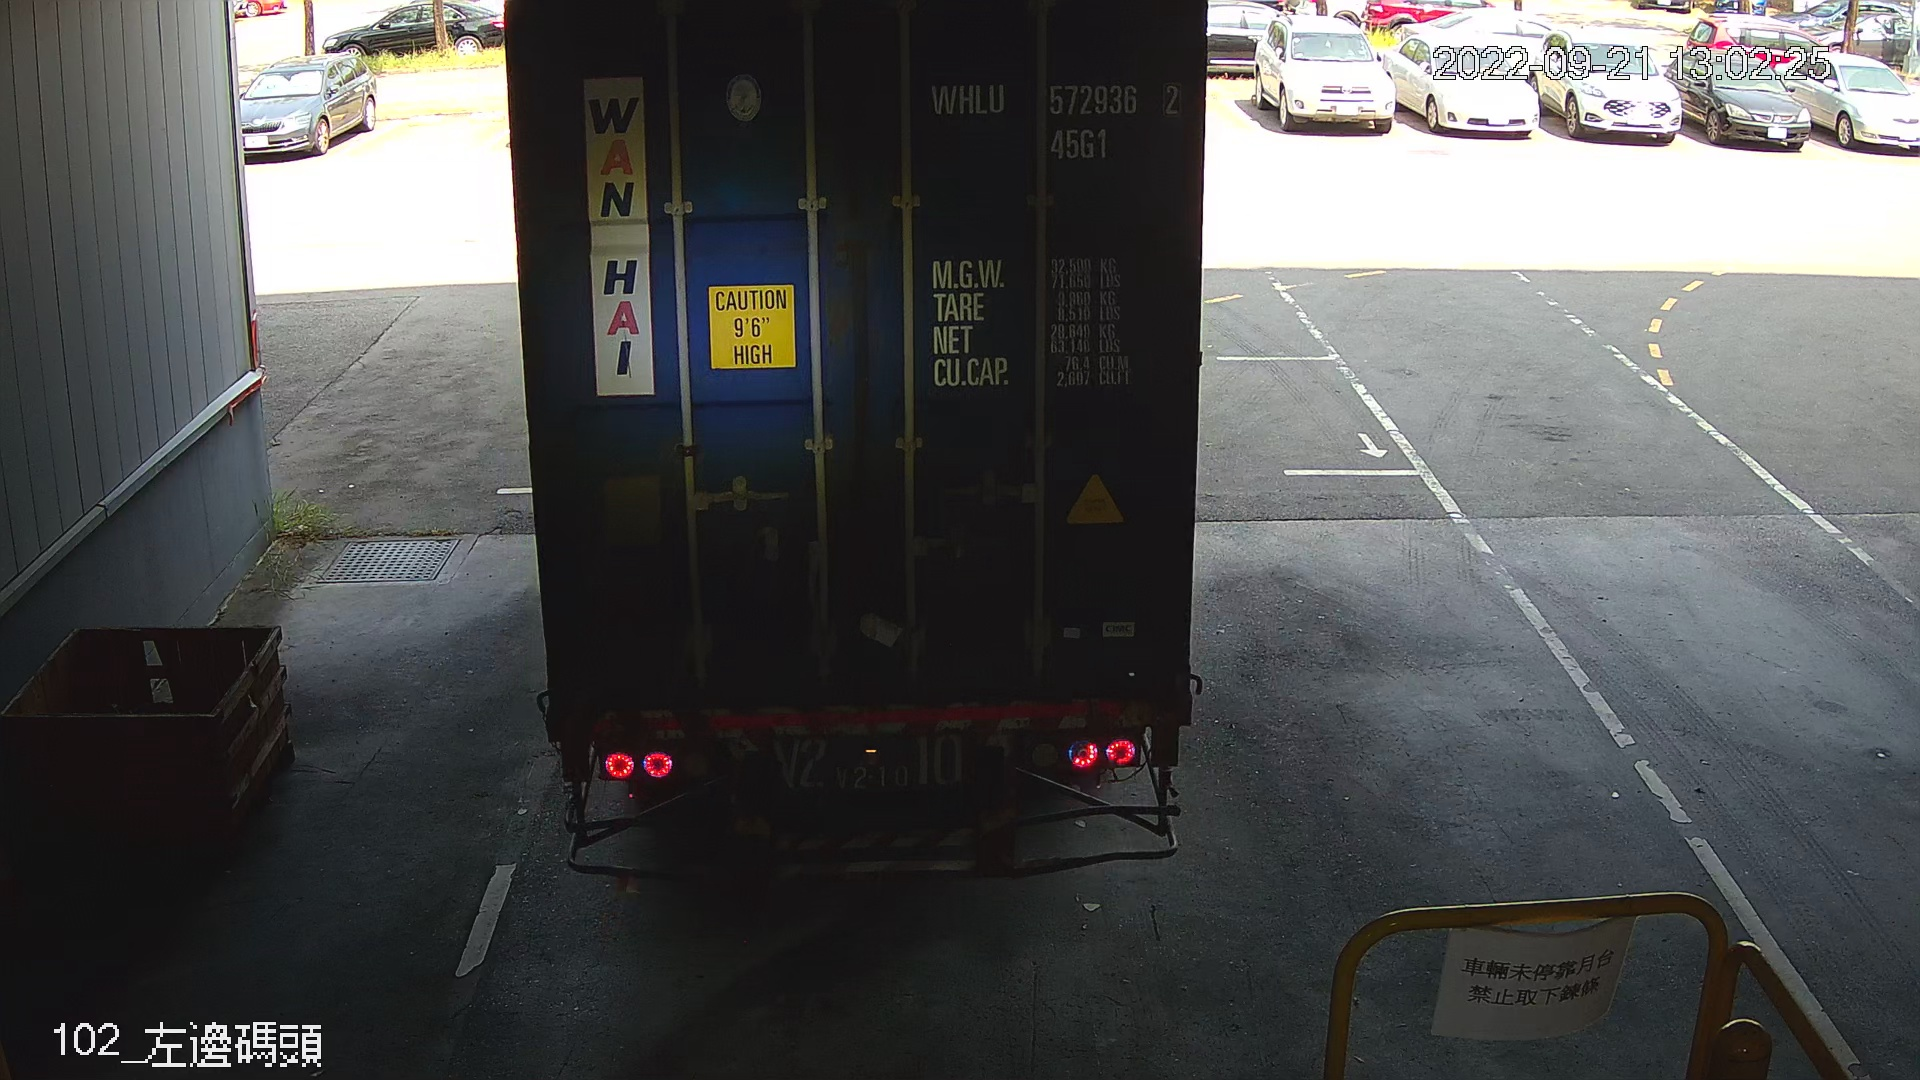container: (916, 70, 1188, 169)
